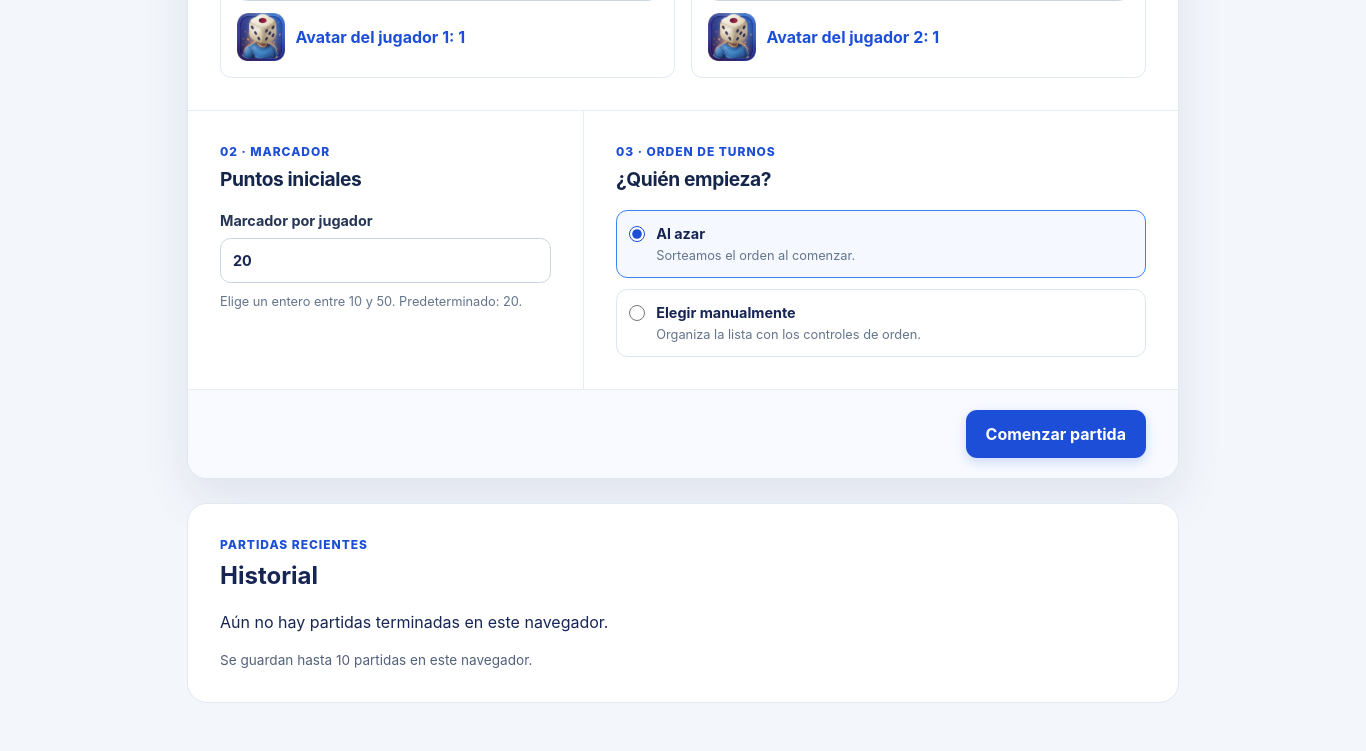
Test: App › actualiza el historial al regresar a la bienvenida
(page scrolled)
Expected: the text "Aún no hay partidas terminadas en este navegador." is shown, 220,612 -> 608,632
Click the button "Comenzar partida": (1056, 434) 966,410 -> 1146,458
(page scrolled)
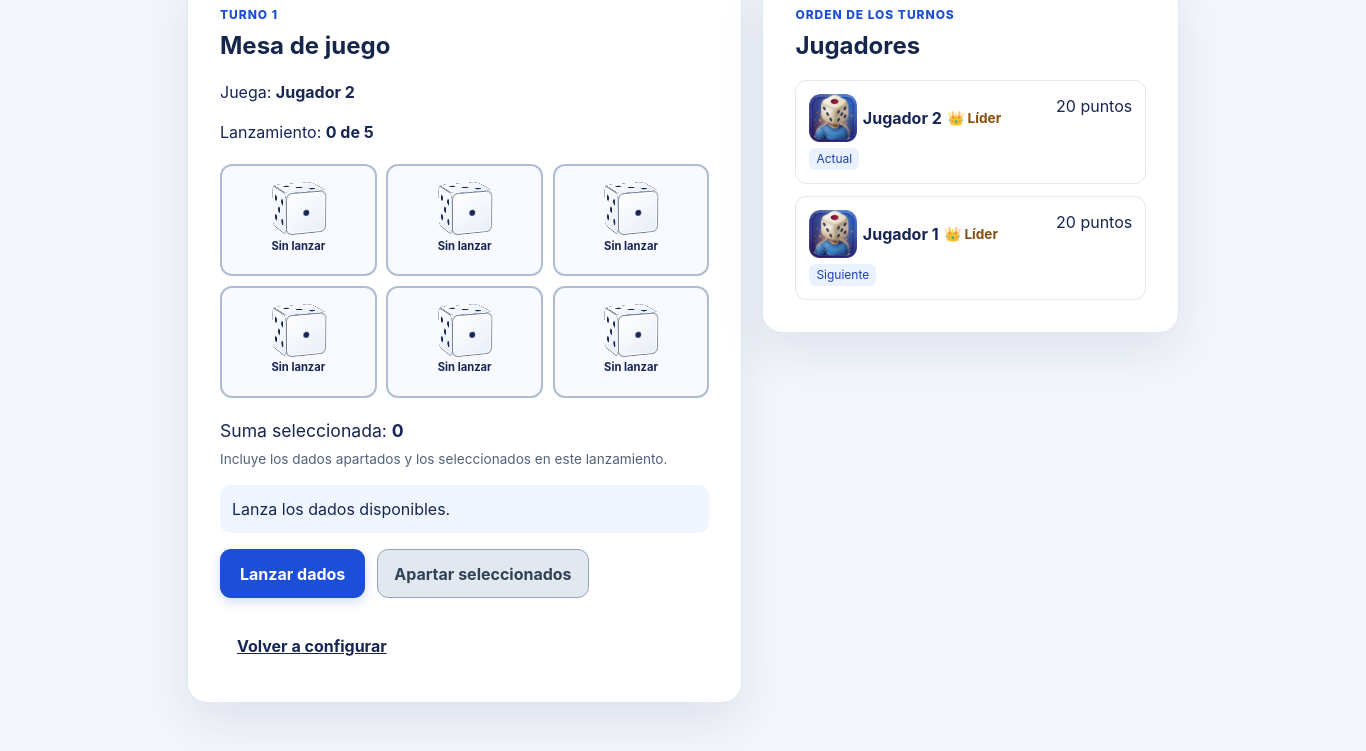
Click the button "Volver a configurar": (312, 646) 220,622 -> 404,670
(page scrolled)
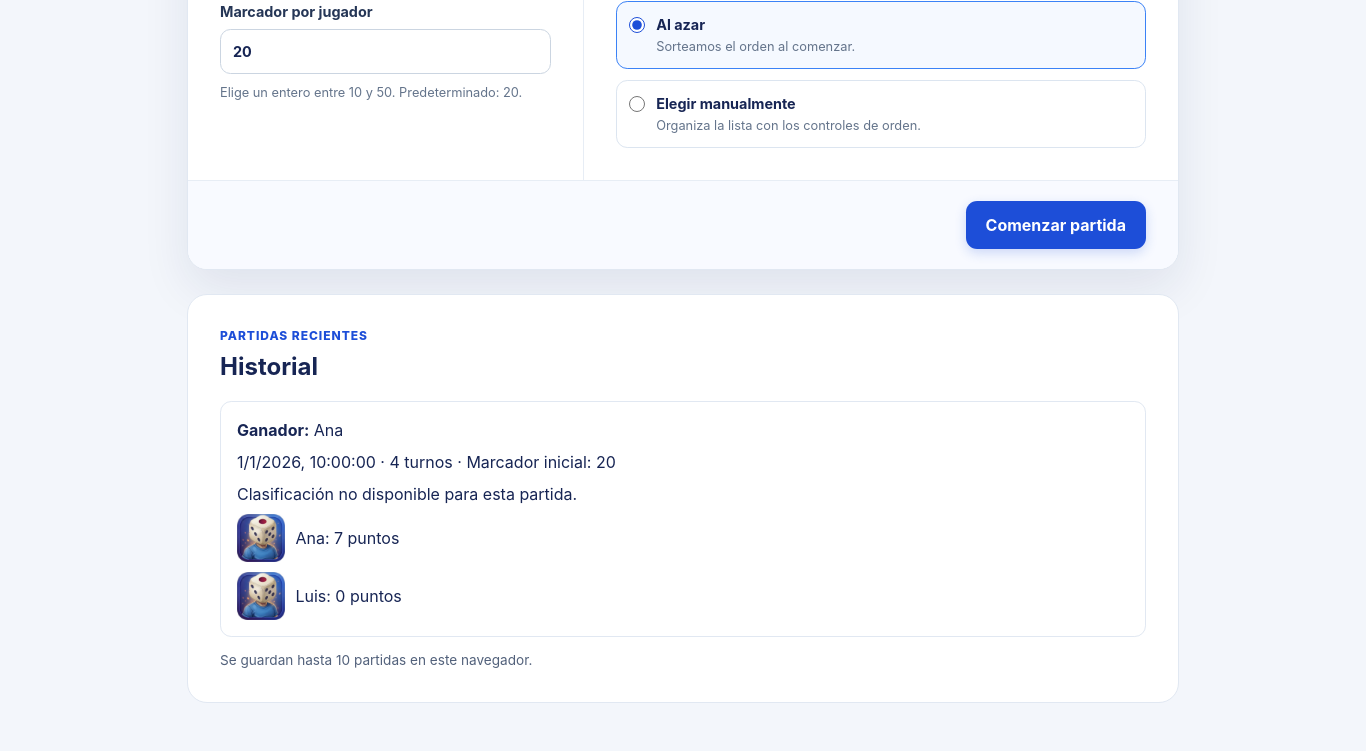
Expected: the text "Ana: 7 puntos" is shown, 295,526 -> 399,550
